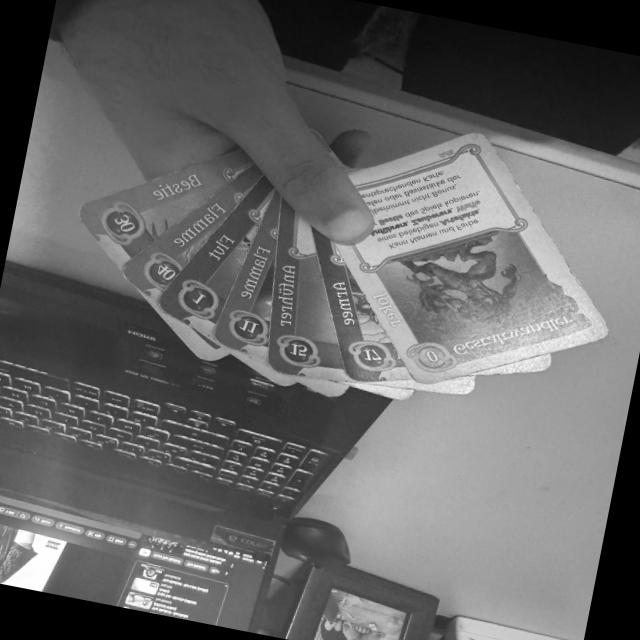Dragon: (70, 150, 254, 265)
Empress: (271, 199, 346, 384)
Fountain Of Life: (153, 176, 278, 339)
Light Cavalry: (312, 227, 414, 384)
Lightning: (211, 191, 284, 362)
Shapeshifter: (332, 132, 616, 389)
Wildfire: (116, 164, 263, 301)
